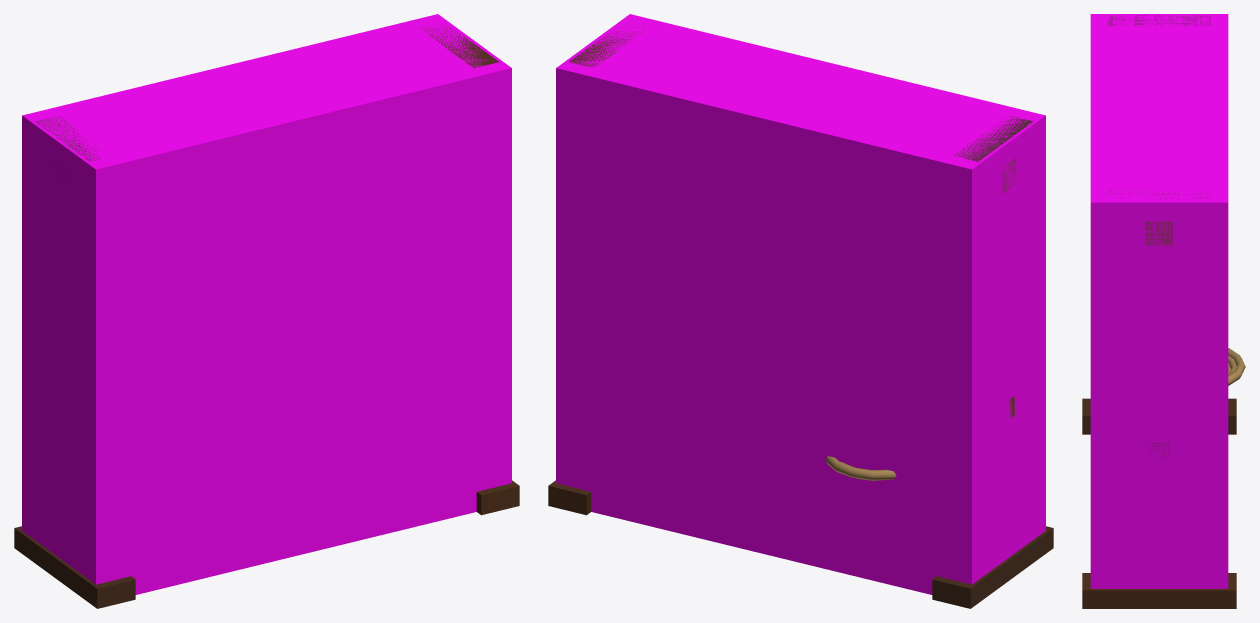
Rendered from PRP_Tool_Rack_A.glb.
3 renders of one model, left to right at view 1: azimuth 30°, elevation 25°; view 2: azimuth 150°, elevation 25°; view 3: azimuth 270°, elevation 25°, orthographic. The views are drawn at different scales.
Visible parts, largest first — view 1: COL_Rack, PRP_Tool_Rack_A_Mesh; view 2: COL_Rack, PRP_Tool_Rack_A_Mesh; view 3: COL_Rack, PRP_Tool_Rack_A_Mesh.
Boxes of the visible parts, <box> form: COL_Rack: <box>22,14,511,594</box>; PRP_Tool_Rack_A_Mesh: <box>14,25,519,608</box>; COL_Rack: <box>556,14,1045,594</box>; PRP_Tool_Rack_A_Mesh: <box>548,26,1053,608</box>; COL_Rack: <box>1090,14,1228,588</box>; PRP_Tool_Rack_A_Mesh: <box>1082,15,1245,608</box>.
Bounding box in the file's own units: 1.32 × 1.3 × 0.4761.
